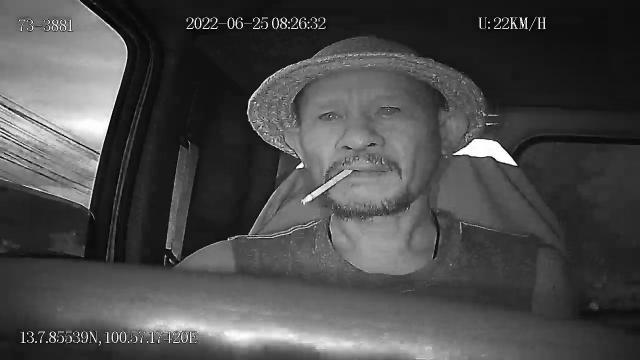SafeDriving: (369, 94, 409, 122), (311, 101, 349, 127)
Smoking: (301, 166, 354, 204)
